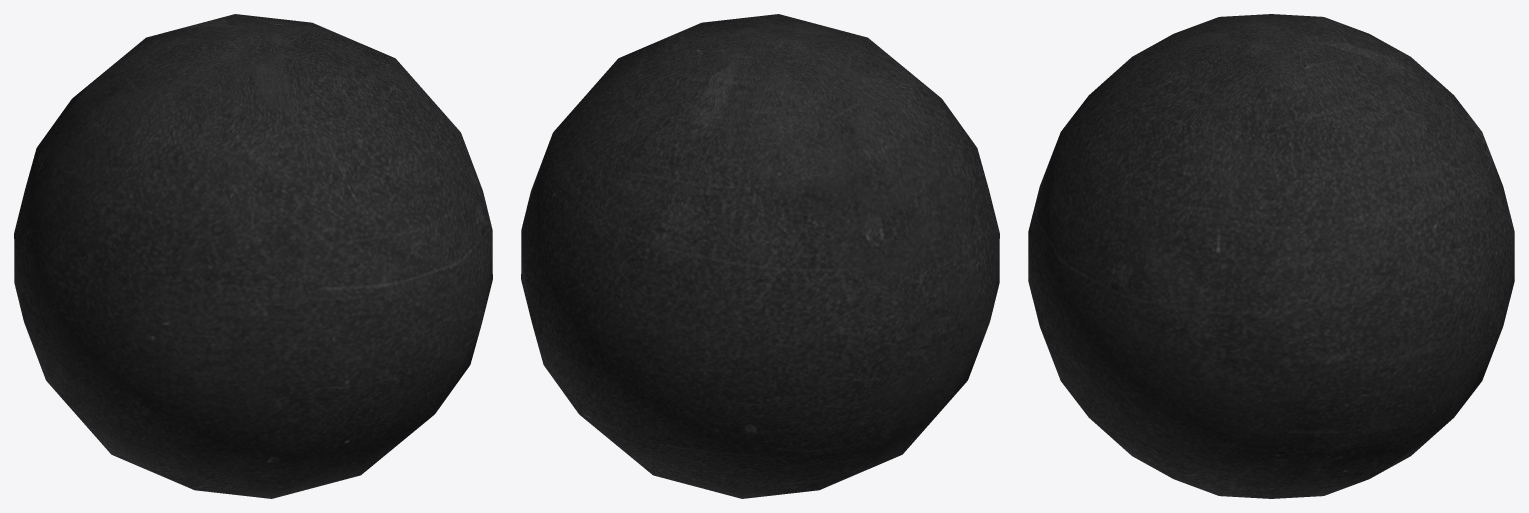
Rendered from mm_kanonkula.FBX.
The picture shows the model from 3 angles, left to right: view 1: azimuth 30°, elevation 25°; view 2: azimuth 150°, elevation 25°; view 3: azimuth 270°, elevation 25°; orthographic projection.
Visible parts, largest first — view 1: GeoSphere001; view 2: GeoSphere001; view 3: GeoSphere001.
Boxes of the visible parts, x1,y1,x2,y2 form: GeoSphere001: (14,14,492,498); GeoSphere001: (521,14,999,498); GeoSphere001: (1028,14,1514,498).
Bounding box in the file's own units: 15.77 × 16 × 15.73.
1 material, 1 textured.
